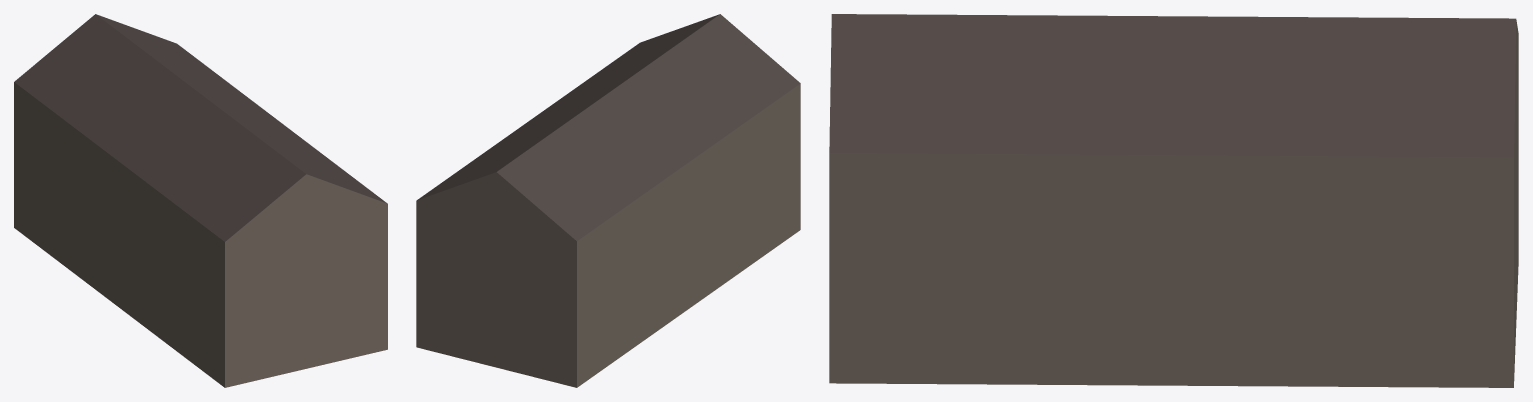
3 views of the same model, side by side, from view 1: azimuth 30°, elevation 25°; view 2: azimuth 150°, elevation 25°; view 3: azimuth 270°, elevation 25° (orthographic). The views are drawn at different scales.
Visible parts, largest first — view 1: HP-w1318376927; view 2: HP-w1318376927; view 3: HP-w1318376927.
Part boxes in pixels (x1,y1,x2,y2): HP-w1318376927: [14, 14, 387, 387]; HP-w1318376927: [416, 14, 800, 387]; HP-w1318376927: [829, 14, 1518, 387].
Bounding box in the file's own units: 10.81 × 12.01 × 24.41.
